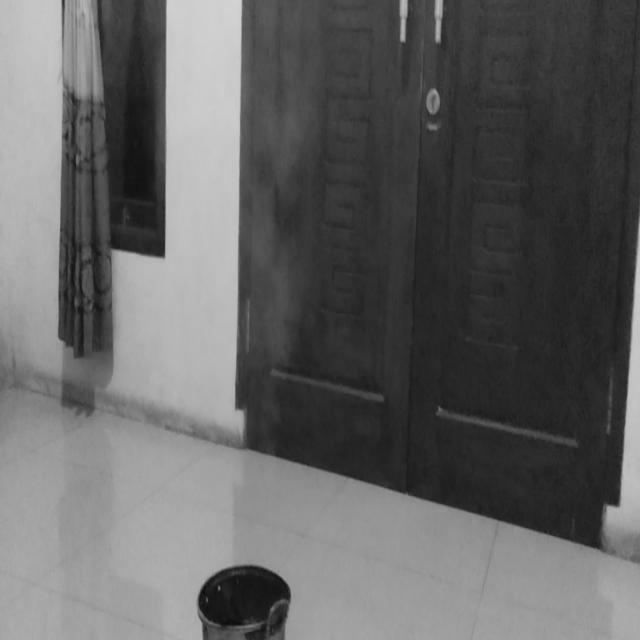fire: (223, 0, 310, 393)
